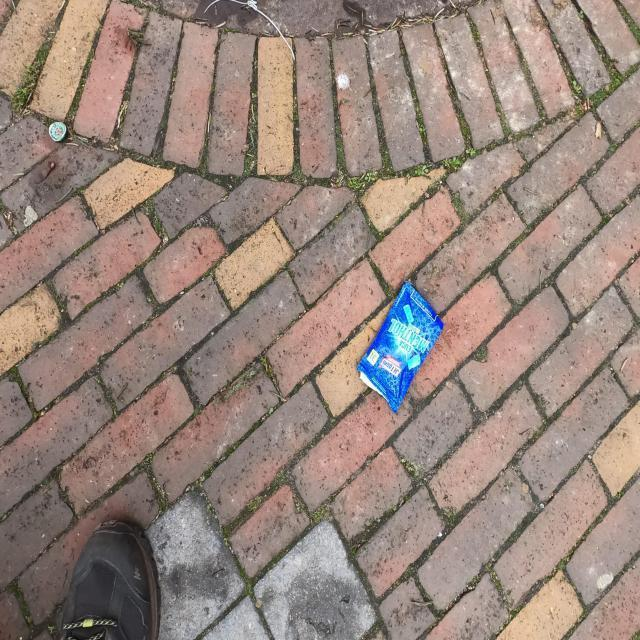Plastic: (356, 278, 446, 416)
